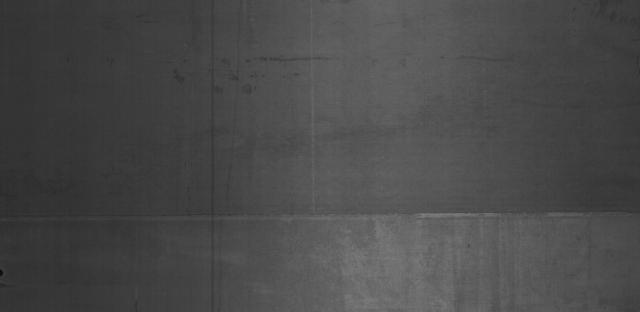welding_line: (1, 207, 640, 230)
